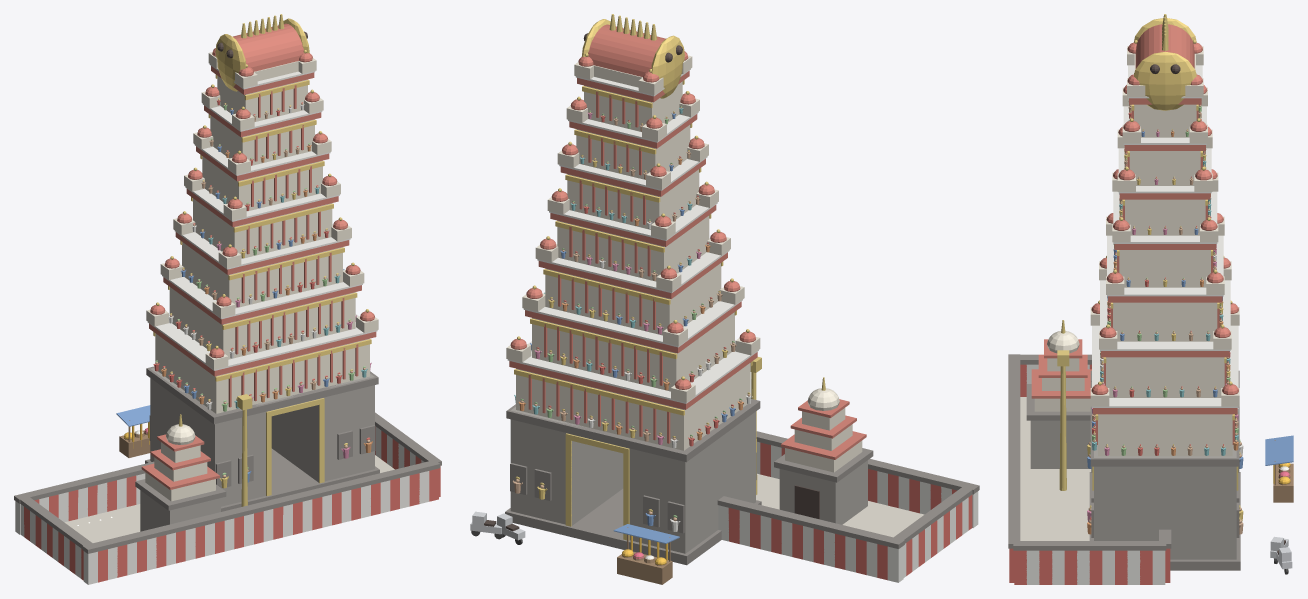
The model's file is kapaleeshwarar-temple.glb.
3 renders of one model, left to right at view 1: azimuth 30°, elevation 25°; view 2: azimuth 150°, elevation 25°; view 3: azimuth 270°, elevation 25°, orthographic. The views are drawn at different scales.
Parts seen in each view (by area): view 1: Temple_stucco, Temple_cornice, Temple_white, Temple_granite, Temple_graniteD, Temple_red, Temple_yellow, Temple_gold, Temple_paving, Temple_skin, Temple_blue, Temple_wood; view 2: Temple_stucco, Temple_cornice, Temple_granite, Temple_white, Temple_graniteD, Temple_yellow, Temple_red, Temple_gold, Temple_paving, Temple_skin, Temple_wood, Temple_blue (+2 smaller); view 3: Temple_stucco, Temple_granite, Temple_cornice, Temple_white, Temple_graniteD, Temple_paving, Temple_red, Temple_yellow, Temple_gold, Temple_blue, Temple_skin, Temple_wood (+2 smaller).
Part boxes in pixels (x1,y1,x2,y2): Temple_stucco: [145, 52, 378, 501]; Temple_cornice: [141, 23, 376, 489]; Temple_white: [15, 64, 429, 584]; Temple_granite: [140, 367, 374, 531]; Temple_graniteD: [14, 366, 441, 553]; Temple_red: [24, 100, 440, 582]; Temple_yellow: [153, 18, 371, 488]; Temple_gold: [156, 14, 369, 506]; Temple_paving: [64, 455, 394, 542]; Temple_skin: [155, 99, 370, 478]; Temple_blue: [116, 110, 344, 482]; Temple_wood: [119, 420, 150, 457]; Temple_stucco: [506, 55, 862, 472]; Temple_cornice: [509, 24, 866, 459]; Temple_granite: [510, 407, 867, 553]; Temple_white: [507, 69, 978, 582]; Temple_graniteD: [505, 399, 979, 565]; Temple_yellow: [514, 19, 752, 499]; Temple_red: [536, 116, 972, 580]; Temple_gold: [515, 14, 825, 540]; Temple_paving: [756, 473, 924, 537]; Temple_skin: [512, 107, 750, 521]; Temple_wood: [617, 527, 672, 584]; Temple_blue: [530, 113, 735, 543]; Temple_stucco: [1034, 46, 1239, 456]; Temple_granite: [1030, 420, 1236, 559]; Temple_cornice: [1031, 24, 1238, 444]; Temple_white: [1026, 65, 1243, 584]; Temple_graniteD: [1008, 354, 1240, 570]; Temple_paving: [1020, 397, 1091, 540]; Temple_red: [1009, 112, 1236, 584]; Temple_yellow: [1087, 18, 1243, 521]; Temple_gold: [1057, 14, 1240, 520]; Temple_blue: [1087, 131, 1293, 468]; Temple_skin: [1088, 100, 1243, 534]; Temple_wood: [1273, 440, 1293, 502].
Size of the model in its own units: 22.25 by 27.12 by 14.
